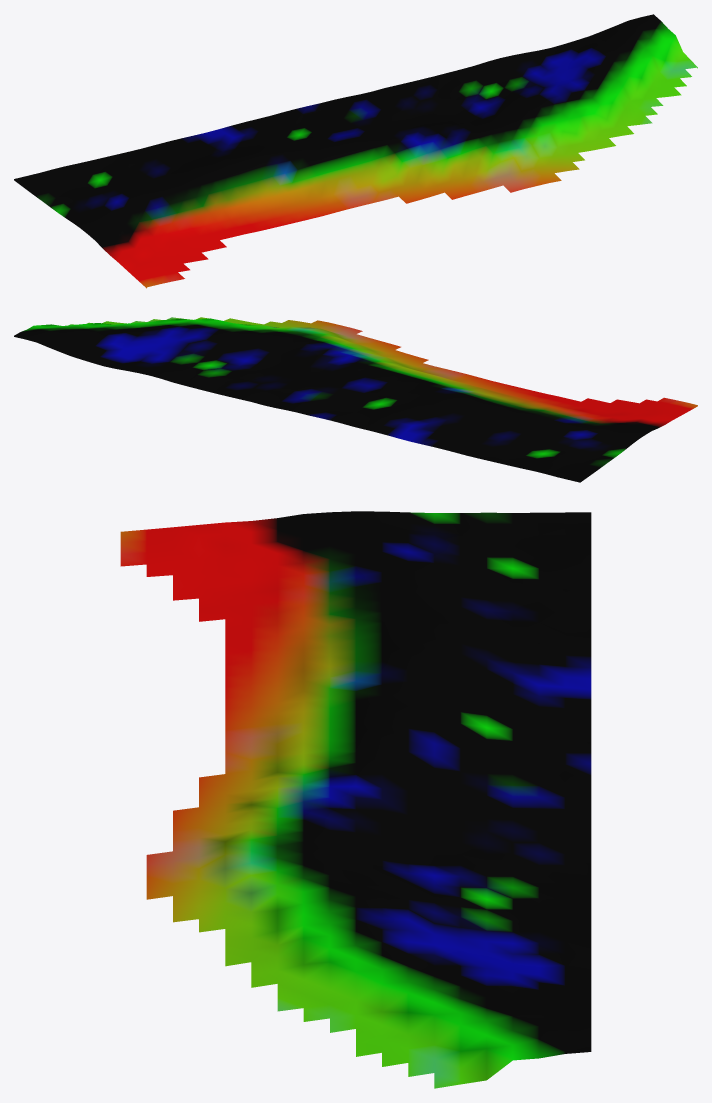
Rendered from coast_-2400_-800_800.glb.
3 views of the same model, one above another, from view 1: azimuth 30°, elevation 25°; view 2: azimuth 150°, elevation 25°; view 3: azimuth 270°, elevation 25° (orthographic). The views are drawn at different scales.
Parts seen in each view (by area): view 1: terrain; view 2: terrain; view 3: terrain.
Part boxes in pixels (box(x1,y1,x2,y2)): terrain: box(14, 14, 697, 288); terrain: box(14, 317, 697, 482); terrain: box(120, 511, 591, 1088).
Bounding box in the file's own units: 800 × 31.15 × 288.
